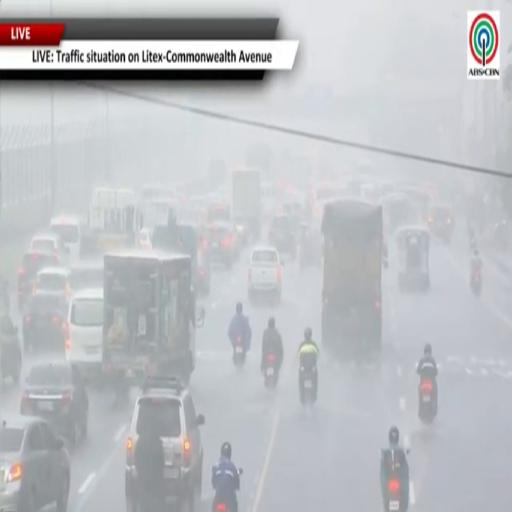car: (126, 377, 204, 511), (0, 415, 70, 511), (20, 360, 88, 446), (65, 288, 103, 375), (23, 291, 67, 351), (18, 250, 59, 310), (179, 222, 211, 294), (247, 246, 282, 303), (0, 315, 22, 388), (50, 216, 80, 261), (32, 266, 71, 300), (268, 214, 297, 259), (208, 222, 236, 267), (30, 231, 69, 262), (70, 259, 103, 293), (428, 204, 454, 243), (196, 249, 211, 294), (207, 201, 230, 222), (138, 228, 152, 249)
motorcycle: (380, 450, 408, 511), (0, 328, 22, 387), (419, 379, 436, 423), (300, 366, 317, 406), (385, 477, 403, 511), (264, 354, 278, 389), (233, 336, 246, 366), (212, 498, 234, 511), (471, 270, 482, 296)
truck: (102, 250, 203, 393), (322, 199, 384, 358), (80, 187, 143, 258), (231, 169, 261, 241)
